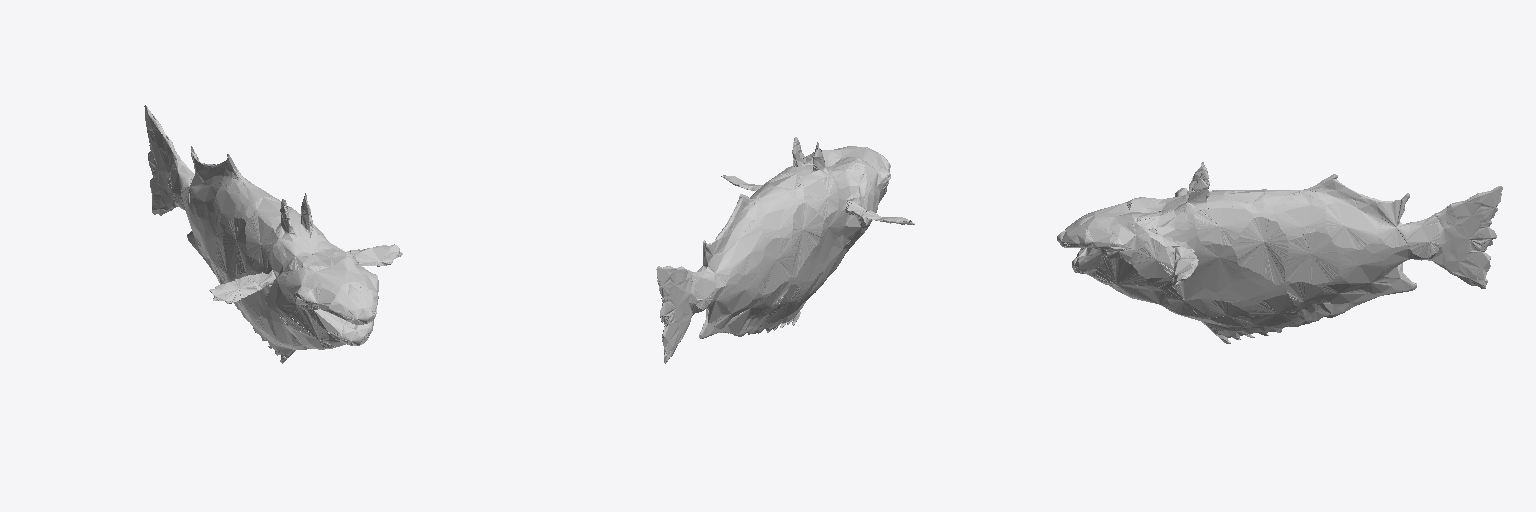
File: Fish1.obj
3 renders of one model, left to right at view 1: azimuth 30°, elevation 25°; view 2: azimuth 150°, elevation 25°; view 3: azimuth 270°, elevation 25°, orthographic.
Visible parts, largest first — view 1: mmGroup0; view 2: mmGroup0; view 3: mmGroup0.
Boxes of the visible parts, <box> form: mmGroup0: <box>144,105,402,363</box>; mmGroup0: <box>656,137,914,363</box>; mmGroup0: <box>1057,162,1502,343</box>.
Size of the model in its own units: 50.21 by 44.55 by 102.